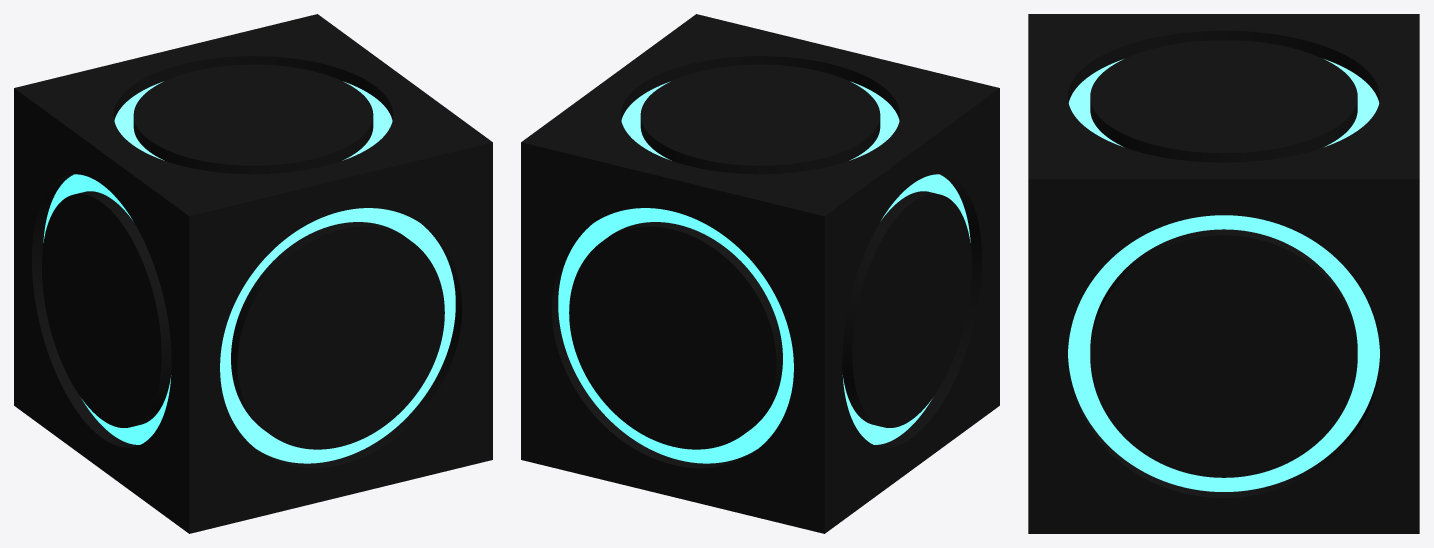
The model's file is cube_clean.FBX.
The picture shows the model from 3 angles, left to right: view 1: azimuth 30°, elevation 25°; view 2: azimuth 150°, elevation 25°; view 3: azimuth 270°, elevation 25°; orthographic projection. The views are drawn at different scales.
Parts seen in each view (by area): view 1: Box001; view 2: Box001; view 3: Box001.
Boxes of the visible parts, bbox=[...] form: Box001: bbox=[14, 14, 492, 533]; Box001: bbox=[521, 14, 999, 533]; Box001: bbox=[1028, 14, 1419, 533].
Bounding box in the file's own units: 0.9997 × 0.9997 × 0.9997.
